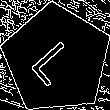L_NE: (28, 30, 86, 88)
